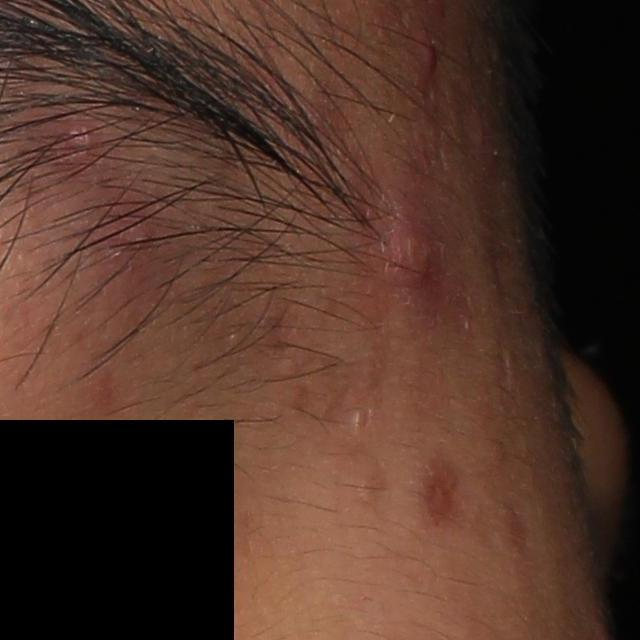papule: (369, 200, 453, 309), (48, 120, 108, 167), (409, 26, 438, 89)
